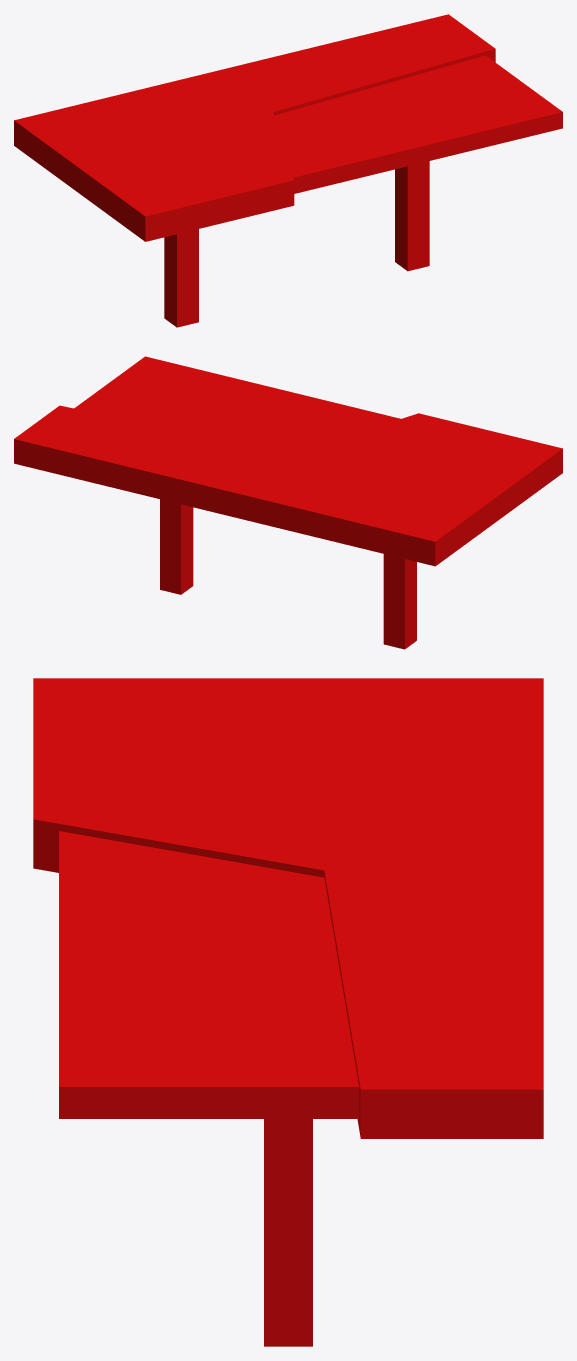
Rendered from SM_Prop_Gaspump_Cover_Burnt_01_Collision.fbx.
The picture shows the model from 3 angles, top to bottom: view 1: azimuth 30°, elevation 25°; view 2: azimuth 150°, elevation 25°; view 3: azimuth 270°, elevation 25°; orthographic projection. The views are drawn at different scales.
Visible parts, largest first — view 1: SM_Prop_Gaspump_Cover_Burnt_01_Collision; view 2: SM_Prop_Gaspump_Cover_Burnt_01_Collision; view 3: SM_Prop_Gaspump_Cover_Burnt_01_Collision.
Boxes of the visible parts, bbox=[...] form: SM_Prop_Gaspump_Cover_Burnt_01_Collision: bbox=[14, 14, 562, 327]; SM_Prop_Gaspump_Cover_Burnt_01_Collision: bbox=[14, 356, 562, 649]; SM_Prop_Gaspump_Cover_Burnt_01_Collision: bbox=[33, 678, 543, 1346].
Bounding box in the file's own units: 1338 × 520 × 701.
